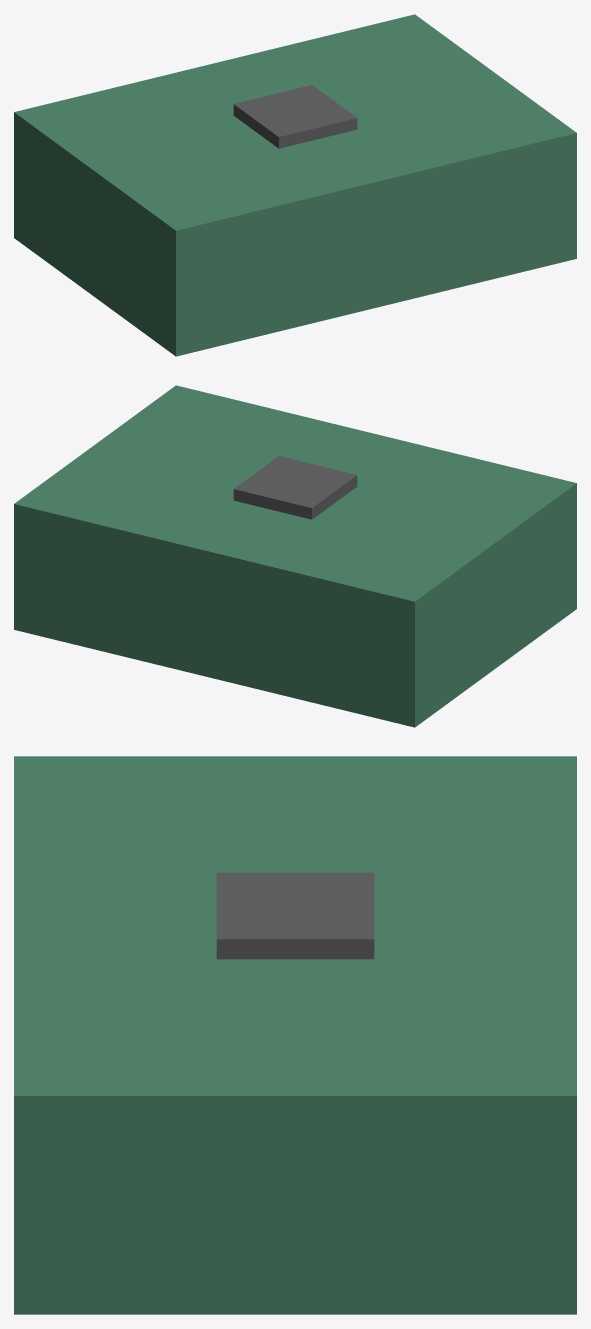
File: mcp2515.glb
3 views of the same model, one above another, from view 1: azimuth 30°, elevation 25°; view 2: azimuth 150°, elevation 25°; view 3: azimuth 270°, elevation 25° (orthographic). The views are drawn at different scales.
Visible parts, largest first — view 1: mcp2515-pcb, mcp2515-ic; view 2: mcp2515-pcb, mcp2515-ic; view 3: mcp2515-pcb, mcp2515-ic.
Boxes of the visible parts, left/top/right/bottom form: mcp2515-pcb: left=14, top=14, right=576, bottom=356; mcp2515-ic: left=233, top=85, right=357, bottom=148; mcp2515-pcb: left=14, top=385, right=576, bottom=727; mcp2515-ic: left=233, top=456, right=357, bottom=519; mcp2515-pcb: left=14, top=756, right=576, bottom=1314; mcp2515-ic: left=216, top=872, right=374, bottom=959.
Size of the model in its own units: 0.04 by 0.0131 by 0.028.
